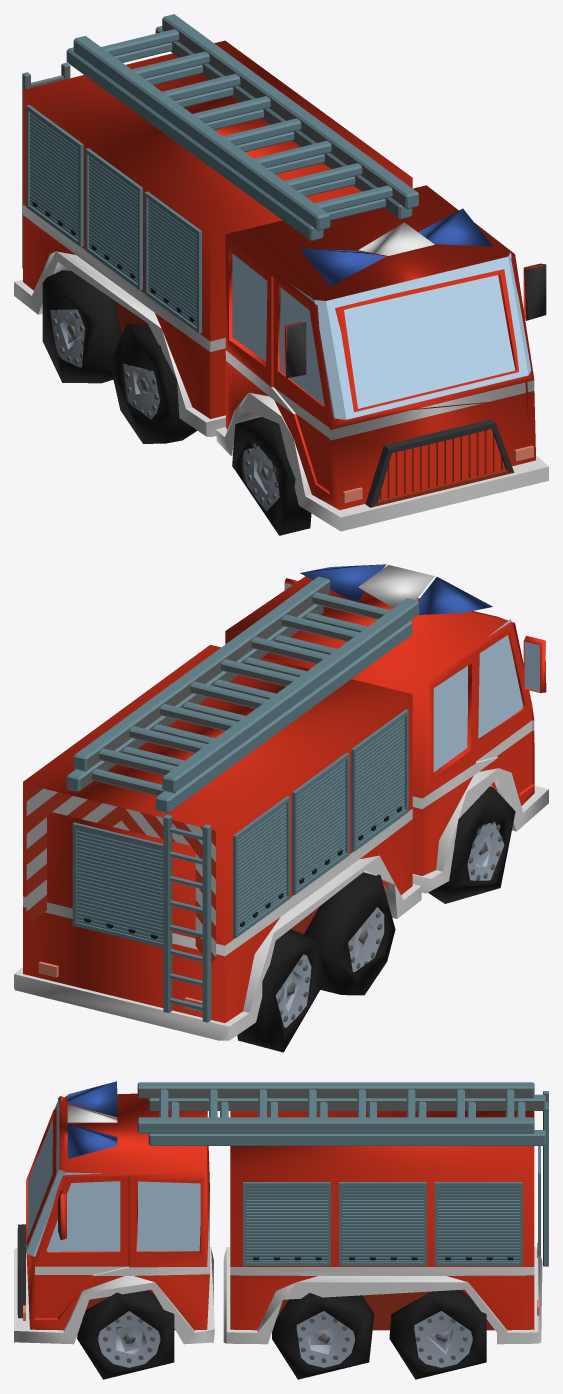
The model's file is camion_pompiers_pack-CY8XqJrA.glb.
3 renders of one model, top to bottom at view 1: azimuth 30°, elevation 25°; view 2: azimuth 150°, elevation 25°; view 3: azimuth 270°, elevation 25°, orthographic. The views are drawn at different scales.
Parts seen in each view (by area): view 1: 19.Firetruck_Cube.215; view 2: 19.Firetruck_Cube.215; view 3: 19.Firetruck_Cube.215.
Part boxes in pixels (x1,y1,x2,y2): 19.Firetruck_Cube.215: (14,14,548,535); 19.Firetruck_Cube.215: (14,564,548,1052); 19.Firetruck_Cube.215: (14,1081,548,1379).
Bounding box in the file's own units: 3.66 × 3.98 × 8.03.
Materials: 1 (1 with a texture image).
